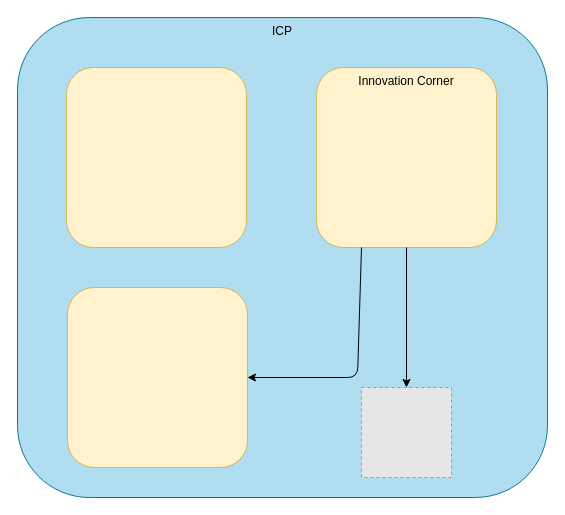
This 565x515 diagram has some shape labels left out. Grey dashed boxes stand in for pictures. The box of each missing label's shape, as (x1, y1, x2, y2) in pixels:
IBM Essentials: (66, 66, 246, 248)
WordPress: (66, 286, 248, 468)
